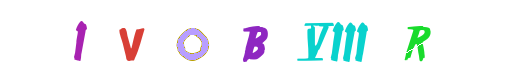1: (102, 0, 182, 80)
8: (296, 0, 376, 80)
B: (224, 0, 304, 80)
O: (181, 0, 261, 80)
R: (378, 0, 458, 80)
V: (158, 0, 238, 80)
